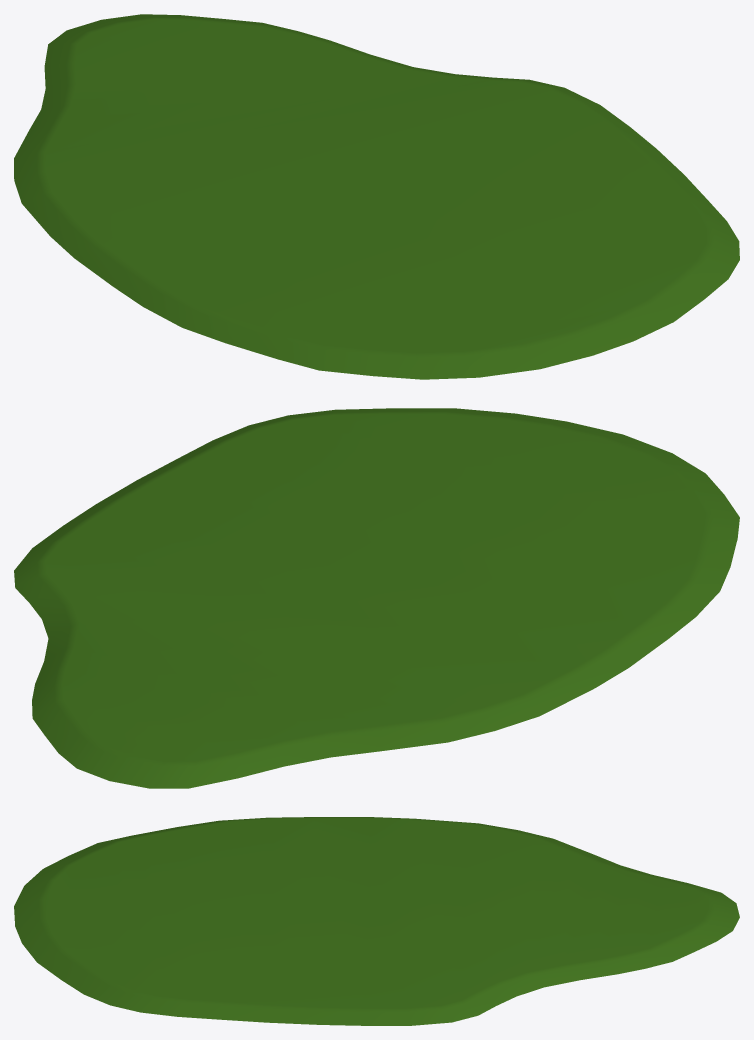
Rendered from GroundPadding01_2.fbx.
3 views of the same model, one above another, from view 1: azimuth 30°, elevation 25°; view 2: azimuth 150°, elevation 25°; view 3: azimuth 270°, elevation 25° (orthographic). The views are drawn at different scales.
Parts seen in each view (by area): view 1: LOD0; view 2: LOD0; view 3: LOD0.
Part boxes in pixels (x1,y1,x2,y2): LOD0: (14, 14, 739, 379); LOD0: (14, 408, 739, 788); LOD0: (14, 817, 739, 1025).
Size of what is drawn, in the model's own units: 1153 by 1693 by 20.6.
Materials: 1 (1 with a texture image).
